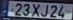2: (48, 4, 58, 18), (14, 2, 22, 16)
3: (21, 3, 30, 16)
4: (57, 5, 65, 19)
J: (39, 4, 49, 17)
X: (30, 3, 41, 17)
